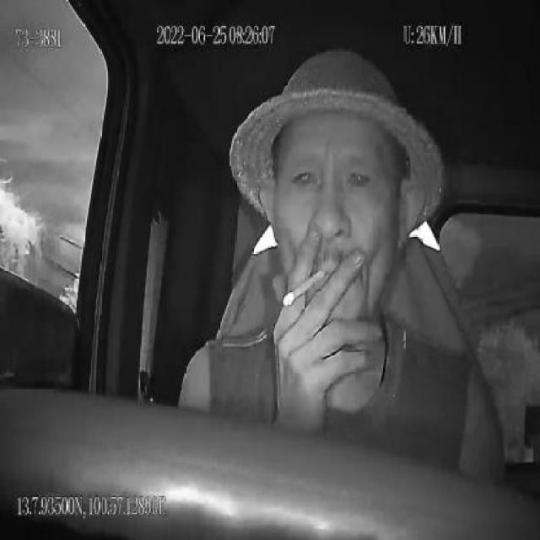smoking: (283, 267, 327, 311)
